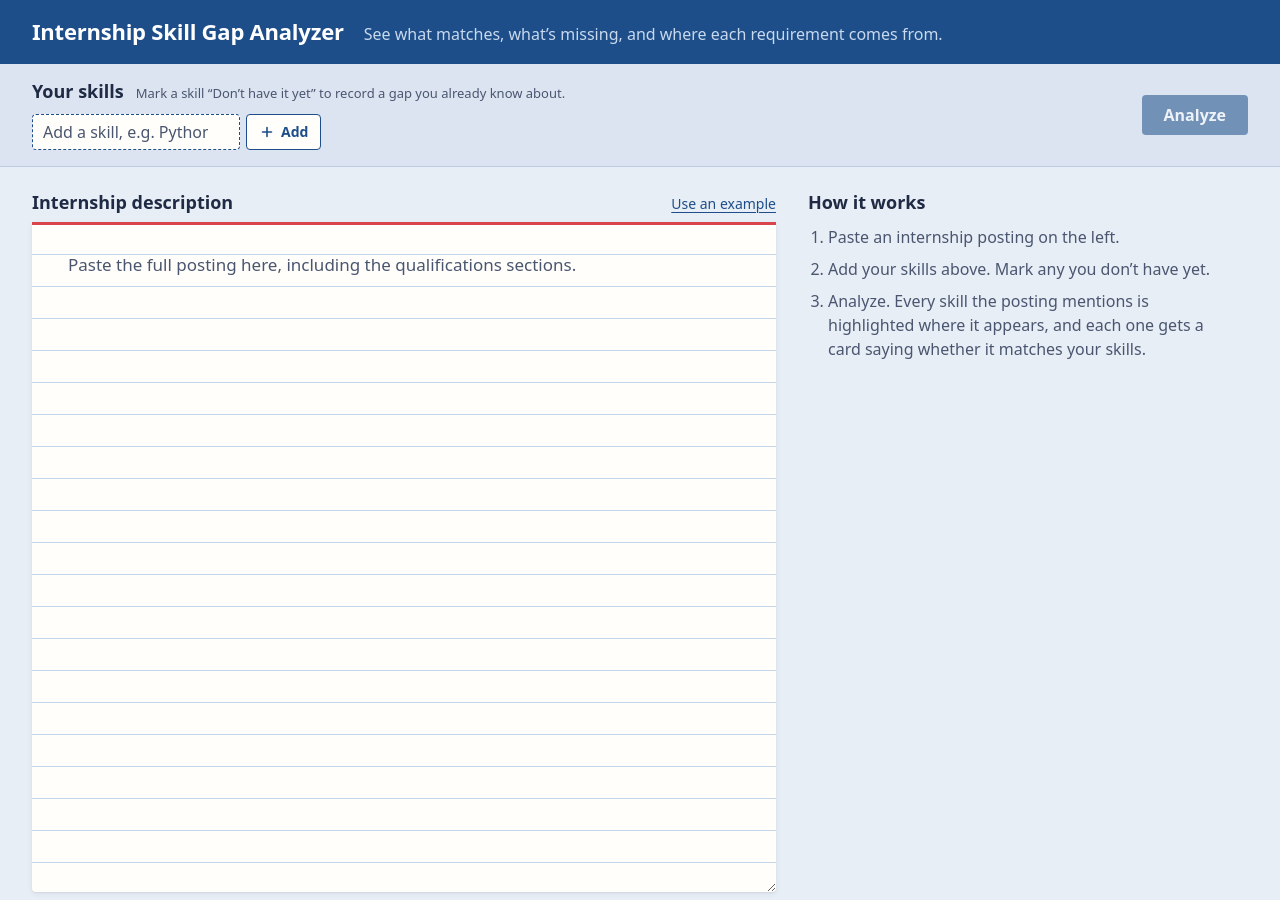
Scenario: App › does not add the same skill twice
Type "Python" into the field labelled "Add a skill".
click(136, 132); type("Python")  # box 32,114 -> 240,150
Then press Enter
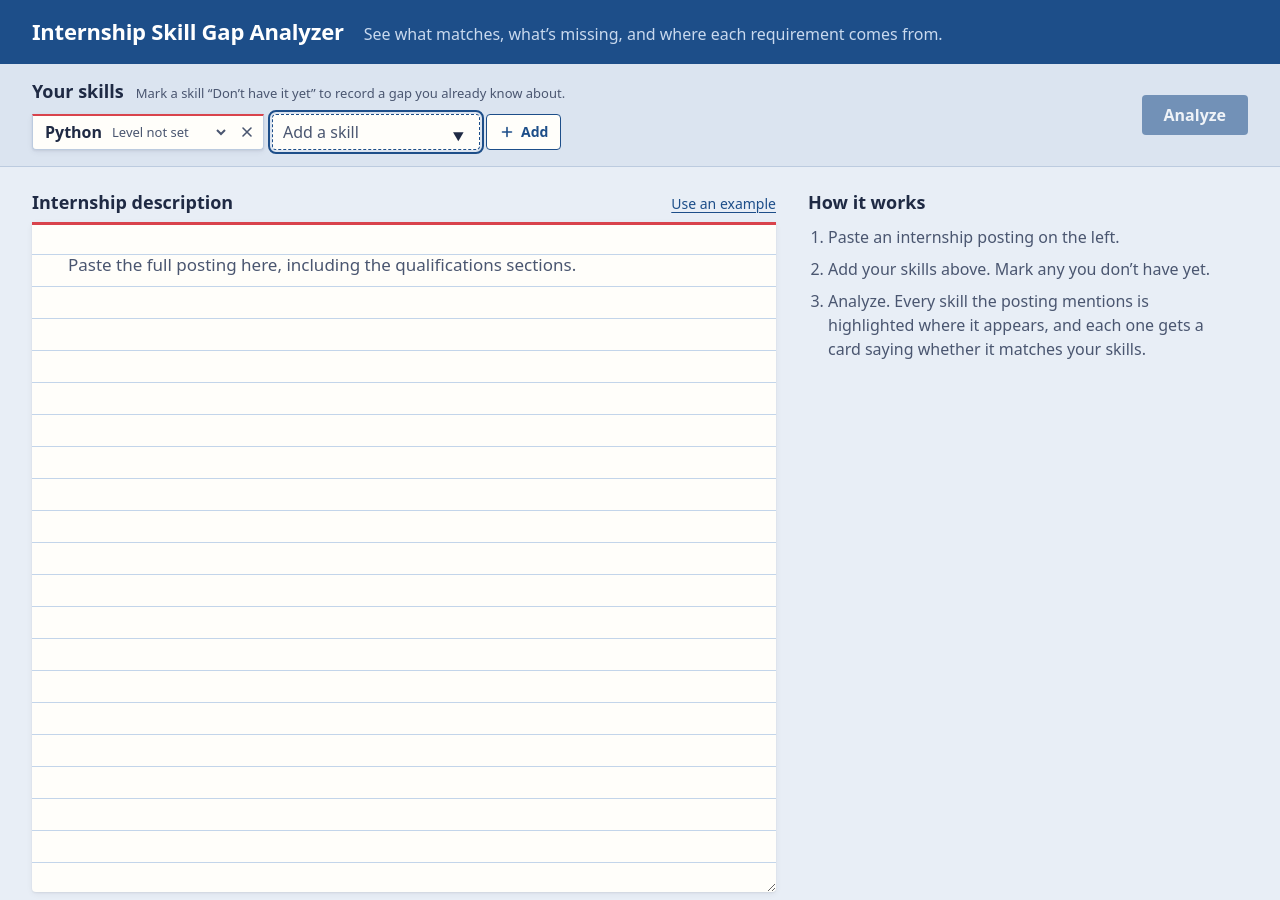
Type "python" into the field labelled "Add a skill".
click(376, 132); type("python")  # box 272,114 -> 480,150
Then press Enter
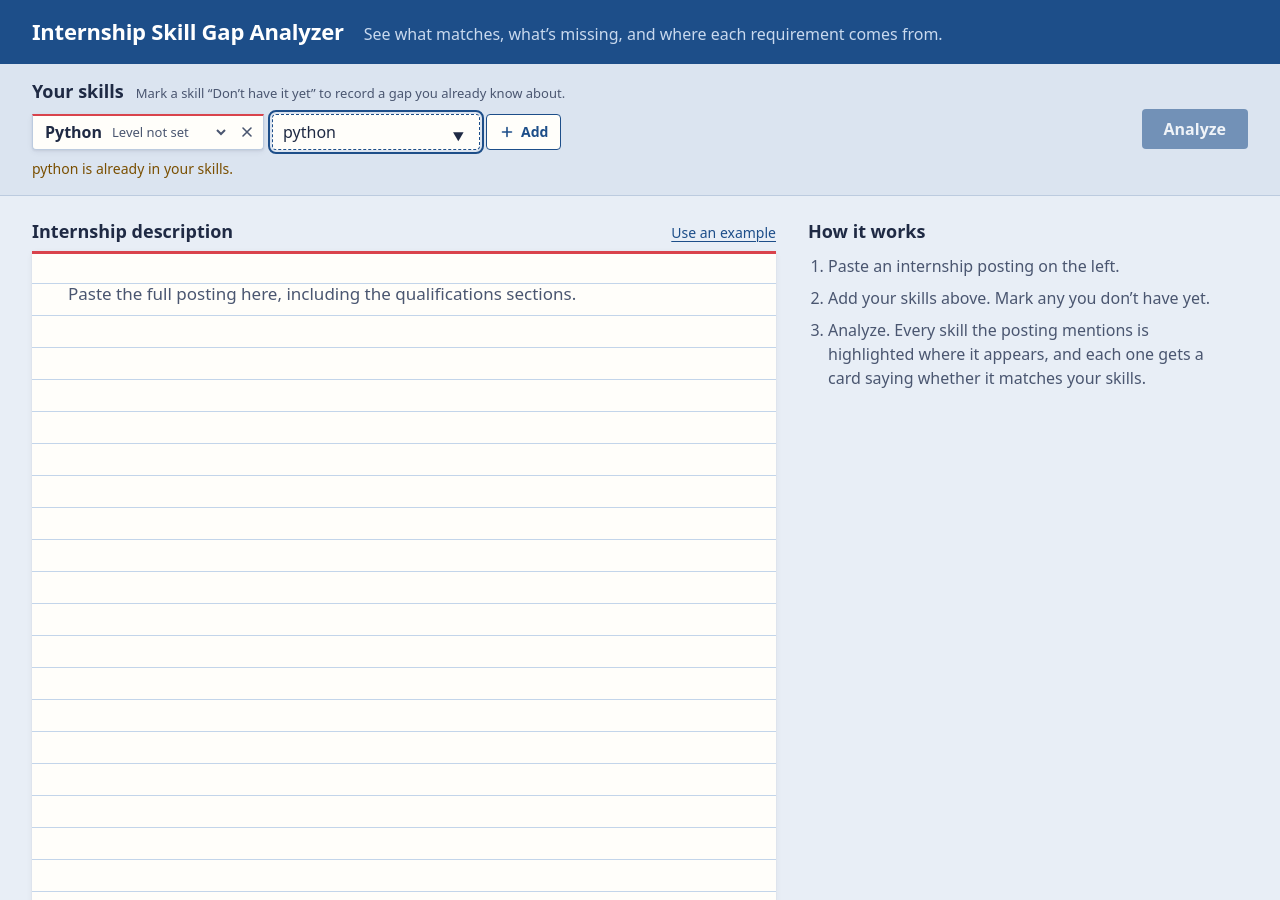
Expected: the number of buttons named "Remove" is 1, 233,118 -> 261,146
Expected: the message reads "python is already in your skills.", 32,158 -> 233,178
